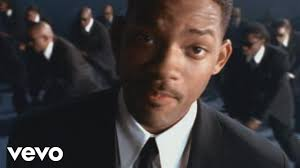black_male: (112, 1, 244, 129)
